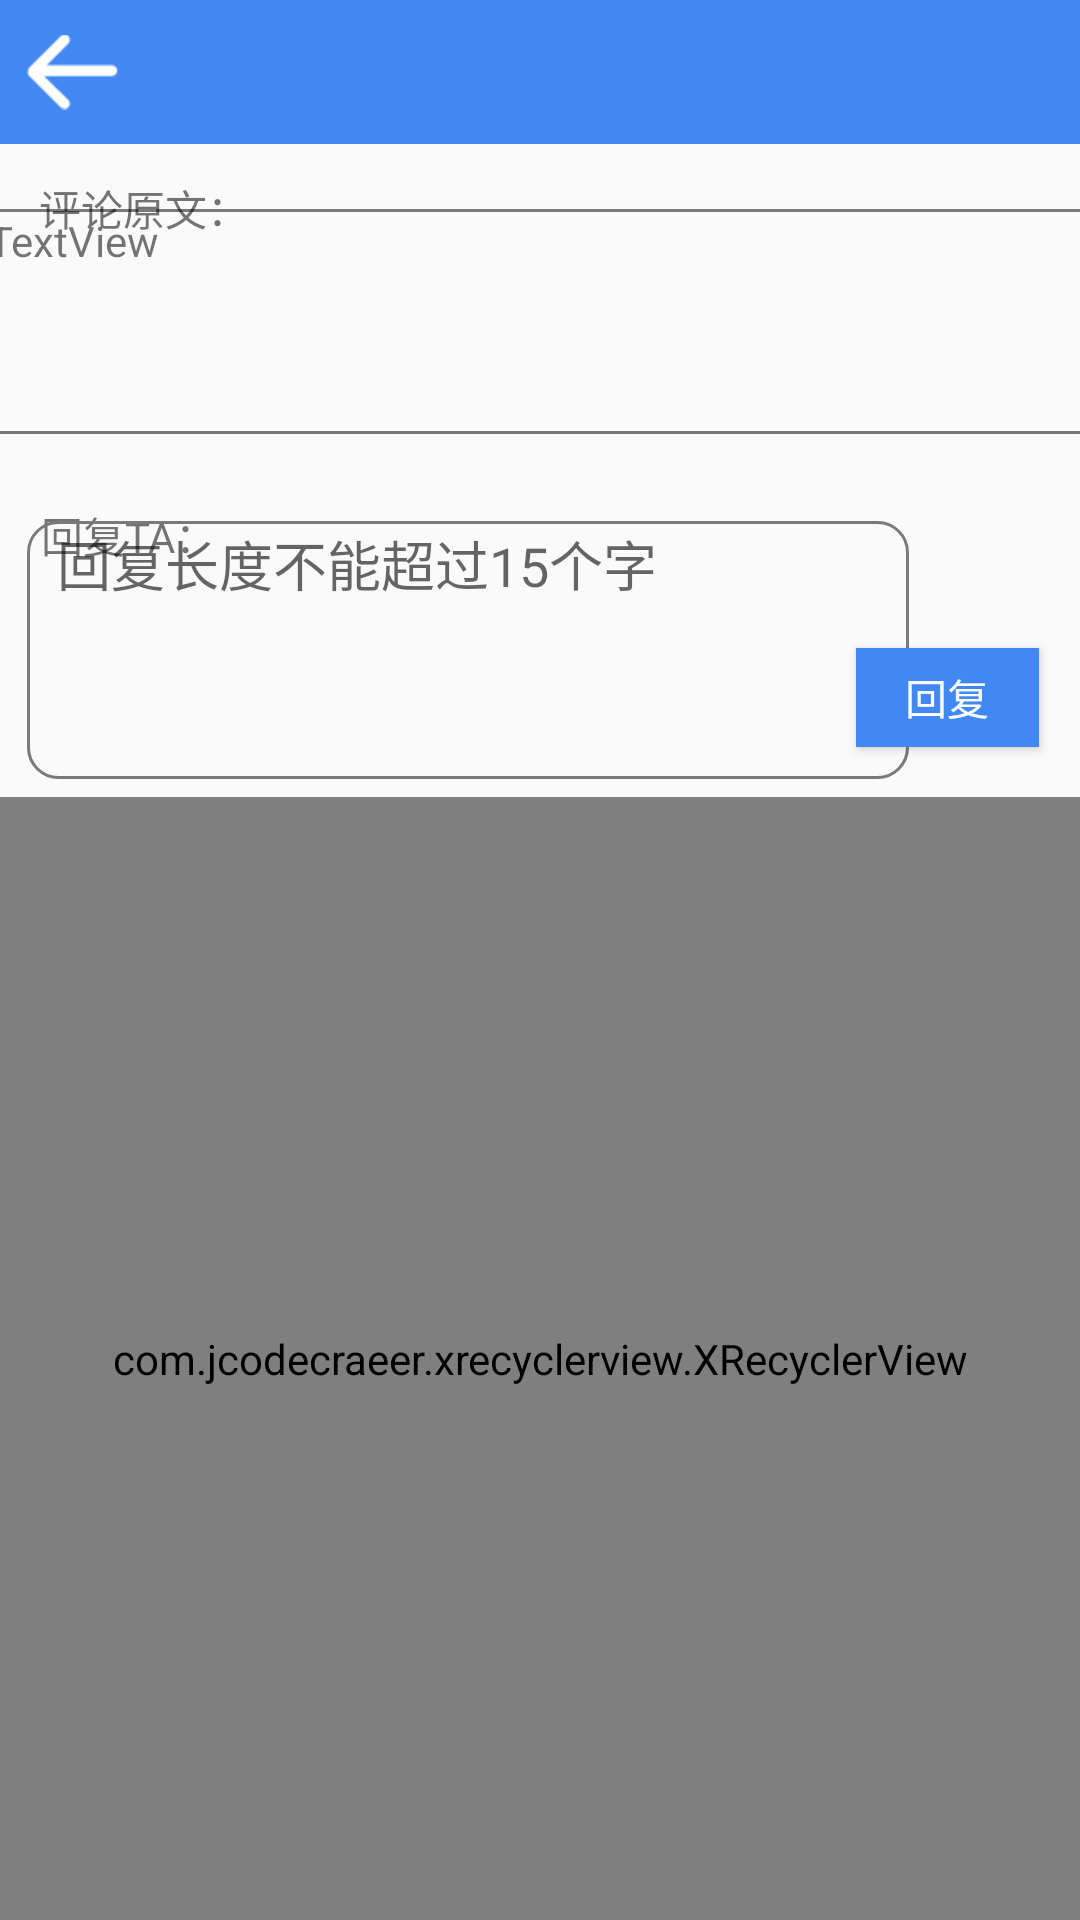

Icon click points for this 1080w x 1920h phone screenshot, format point (x, y):
back: point (72, 72)
